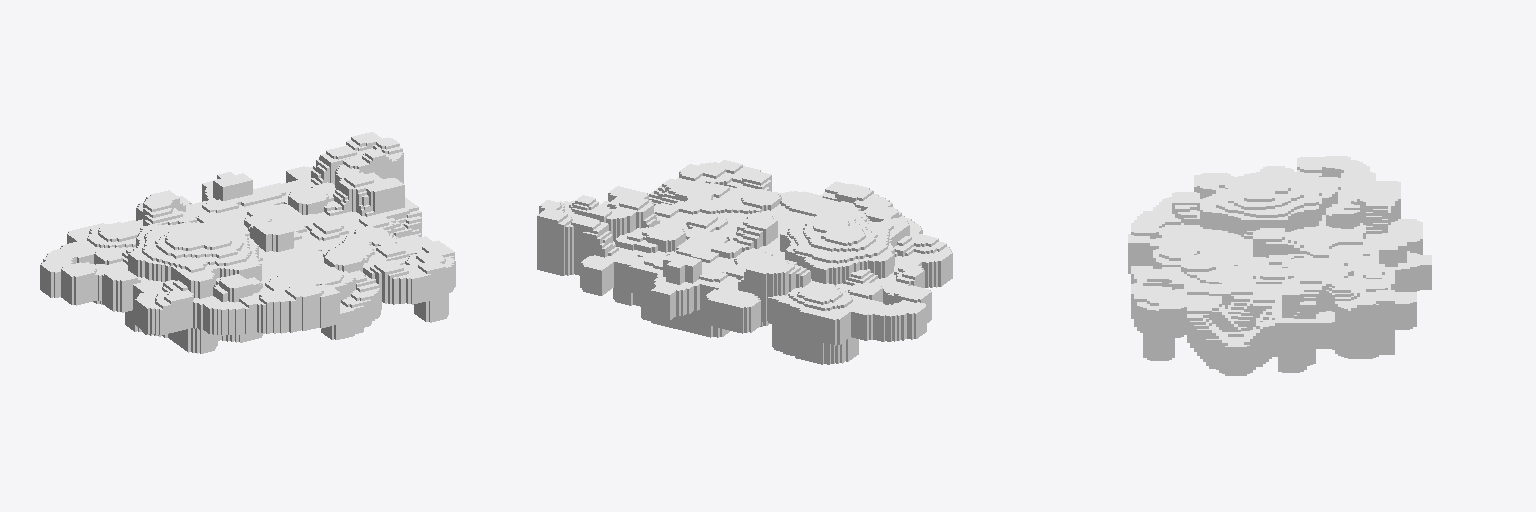
Rendered from Level04-1.obj.
The picture shows the model from 3 angles: view 1: azimuth 30°, elevation 25°; view 2: azimuth 150°, elevation 25°; view 3: azimuth 270°, elevation 25°; orthographic projection.
Parts seen in each view (by area): view 1: object 1; view 2: object 1; view 3: object 1.
Boxes of the visible parts, x1=… form: object 1: x1=40, y1=132, x2=455, y2=353; object 1: x1=537, y1=160, x2=952, y2=364; object 1: x1=1128, y1=156, x2=1431, y2=375.
Size of the model in its own units: 13.4 by 3 by 9.7.